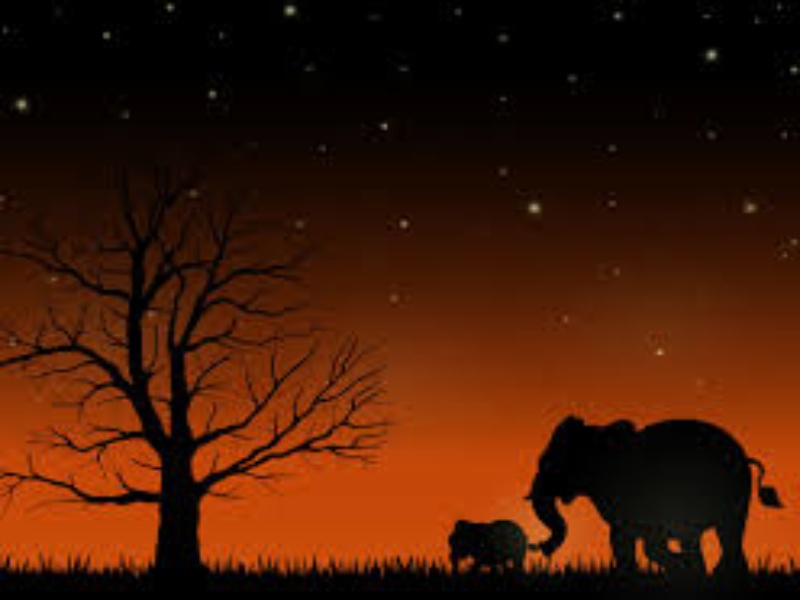elephant: (404, 372, 790, 580)
